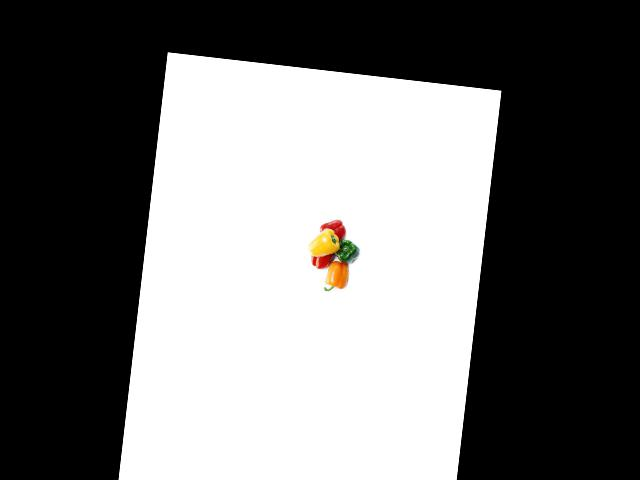bell_pepper: (328, 232, 365, 266)
